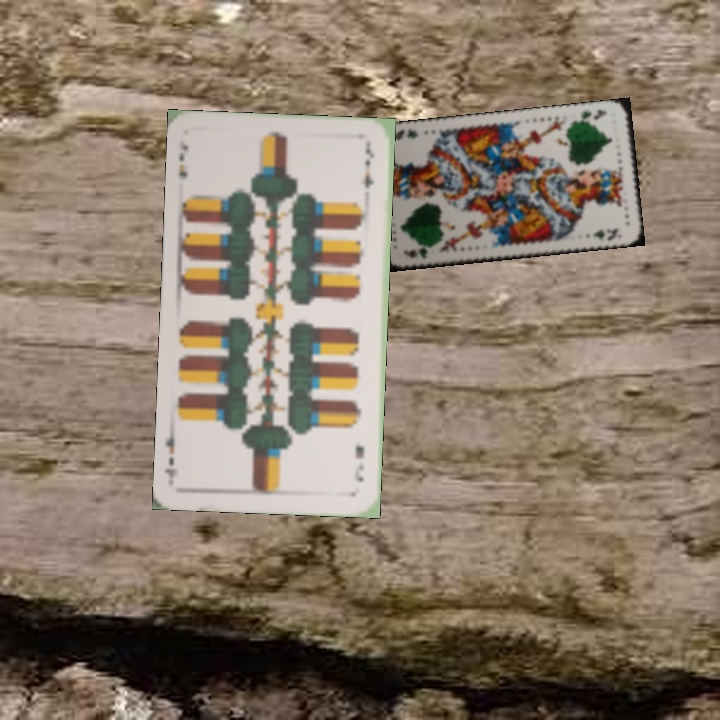E7: (351, 441, 367, 484), (175, 137, 190, 180)
GK: (575, 105, 609, 125), (400, 243, 437, 261)
